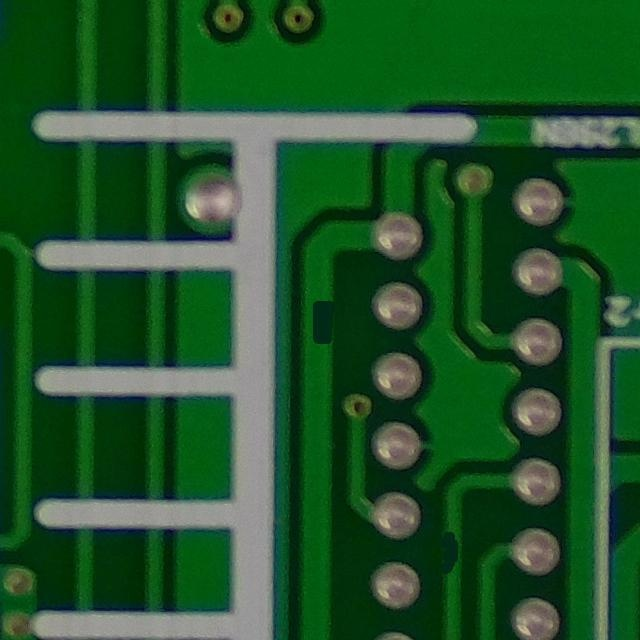mouse_bite: (288, 283, 353, 358)
